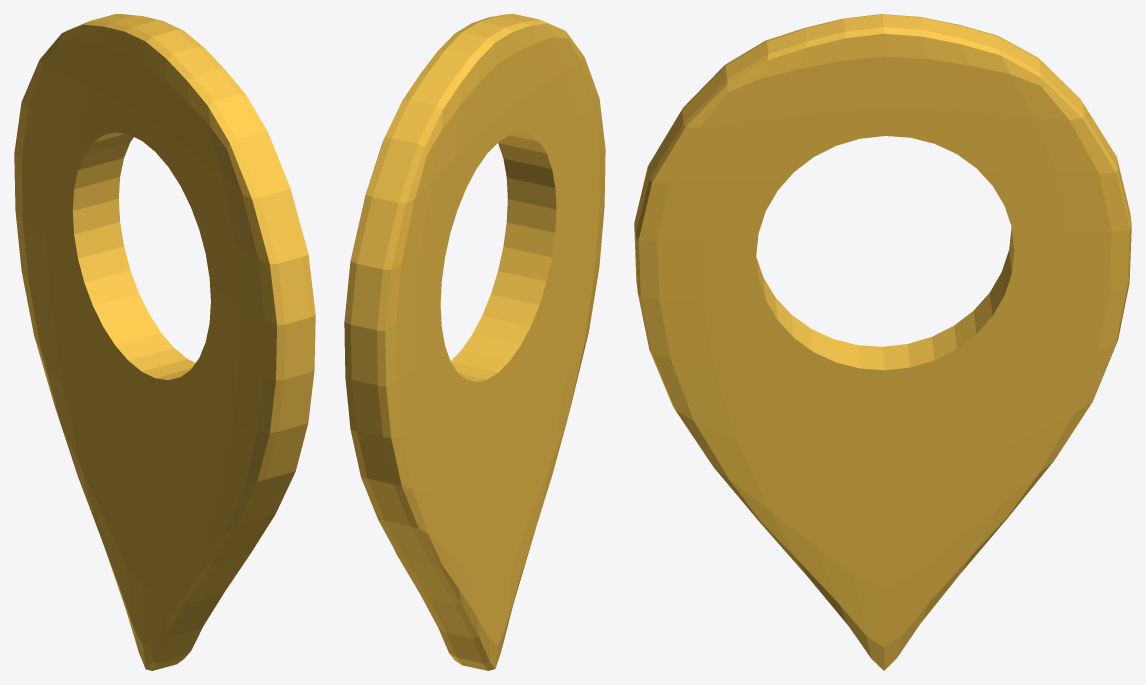
File: MarcadoConstitucion-OLD.gltf
3 views of the same model, side by side, from view 1: azimuth 30°, elevation 25°; view 2: azimuth 150°, elevation 25°; view 3: azimuth 270°, elevation 25° (orthographic).
Visible parts, largest first — view 1: MarcadoConstitucion; view 2: MarcadoConstitucion; view 3: MarcadoConstitucion.
Boxes of the visible parts, left/top/right/bottom form: MarcadoConstitucion: left=14, top=14, right=315, bottom=670; MarcadoConstitucion: left=344, top=14, right=605, bottom=670; MarcadoConstitucion: left=634, top=14, right=1131, bottom=670.
Bounding box in the file's own units: 0.076 × 0.7114 × 0.4983.
